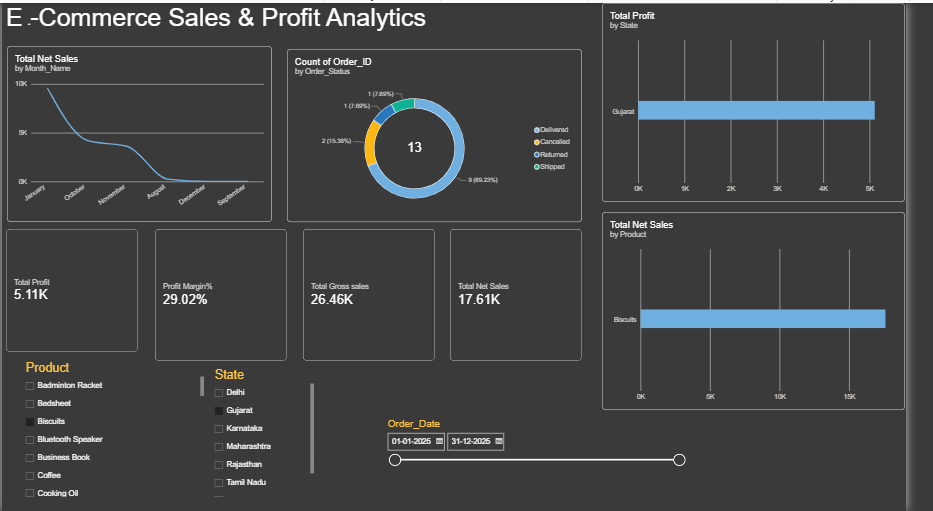

The page's visual inventory and layout, read from the dashboard file:
{"tool":"powerbi","page":{"name":"Page 1","canvas":[1920,1080],"ordinal":0},"visuals":[{"type":"cardVisual","fields":{"Data":["Ecommerce_cleaned.Profit Margin%"]},"box":[325.3,480.5,280,280],"z":0},{"type":"cardVisual","fields":{"Data":["Ecommerce_cleaned.Total Net Sales"]},"box":[952.4,480.5,280,280],"z":1000},{"type":"cardVisual","fields":{"Data":["Ecommerce_cleaned.Total Gross sales"]},"box":[639.9,480.5,280,280],"z":2000},{"type":"cardVisual","fields":{"Data":["Ecommerce_cleaned.Total Profit"]},"box":[8.5,480.5,280.6,261.5],"z":3000},{"type":"lineChart","fields":{"Category":["Ecommerce_cleaned.Month_Name"],"Y":["Ecommerce_cleaned.Total Net Sales"]},"box":[10.6,91.4,563.4,374.2],"z":4000},{"type":"barChart","fields":{"Category":["Ecommerce_cleaned.Product"],"Y":["Ecommerce_cleaned.Total Net Sales"]},"box":[1275.6,444.3,644.2,420.9],"z":5000},{"type":"donutChart","fields":{"Category":["Ecommerce_cleaned.Order_Status"],"Y":["Count(Ecommerce_cleaned.Order_ID)"]},"box":[605.9,97.8,627.2,367.8],"z":6000},{"type":"clusteredBarChart","fields":{"Category":["Ecommerce_cleaned.State"],"Y":["Ecommerce_cleaned.Total Profit"]},"box":[1275.6,0,644.2,423.1],"z":7000},{"type":"slicer","fields":{"Values":["Ecommerce_cleaned.Order_Date"]},"box":[812.1,882.3,644.2,182.8],"z":7001},{"type":"slicer","fields":{"Values":["Ecommerce_cleaned.Product"]},"box":[42.5,761.1,386.9,289.1],"z":7002},{"type":"slicer","fields":{"Values":["Ecommerce_cleaned.State"]},"box":[444.3,776,219,274.3],"z":7003},{"type":"textbox","box":[546,685,387,151],"z":7004},{"type":"textbox","box":[8.5,0,924.8,91.4],"z":7005}]}

Visuals, with their boxes in screenshot pixels (x1, y1, x2, y2), scaled from the page's 1920x1080 canvas onto the 933x511 screenshot:
cardVisual - Ecommerce_cleaned.Profit Margin%: [left=158, top=227, right=294, bottom=360]
cardVisual - Ecommerce_cleaned.Total Net Sales: [left=463, top=227, right=599, bottom=360]
cardVisual - Ecommerce_cleaned.Total Gross sales: [left=311, top=227, right=447, bottom=360]
cardVisual - Ecommerce_cleaned.Total Profit: [left=4, top=227, right=140, bottom=351]
lineChart - Ecommerce_cleaned.Month_Name x Ecommerce_cleaned.Total Net Sales: [left=5, top=43, right=279, bottom=220]
barChart - Ecommerce_cleaned.Product x Ecommerce_cleaned.Total Net Sales: [left=620, top=210, right=932, bottom=409]
donutChart - Ecommerce_cleaned.Order_Status x Count(Ecommerce_cleaned.Order_ID): [left=294, top=46, right=599, bottom=220]
clusteredBarChart - Ecommerce_cleaned.State x Ecommerce_cleaned.Total Profit: [left=620, top=0, right=932, bottom=200]
slicer - Ecommerce_cleaned.Order_Date: [left=395, top=417, right=708, bottom=504]
slicer - Ecommerce_cleaned.Product: [left=21, top=360, right=209, bottom=497]
slicer - Ecommerce_cleaned.State: [left=216, top=367, right=322, bottom=497]
textbox: [left=265, top=324, right=453, bottom=396]
textbox: [left=4, top=0, right=454, bottom=43]
